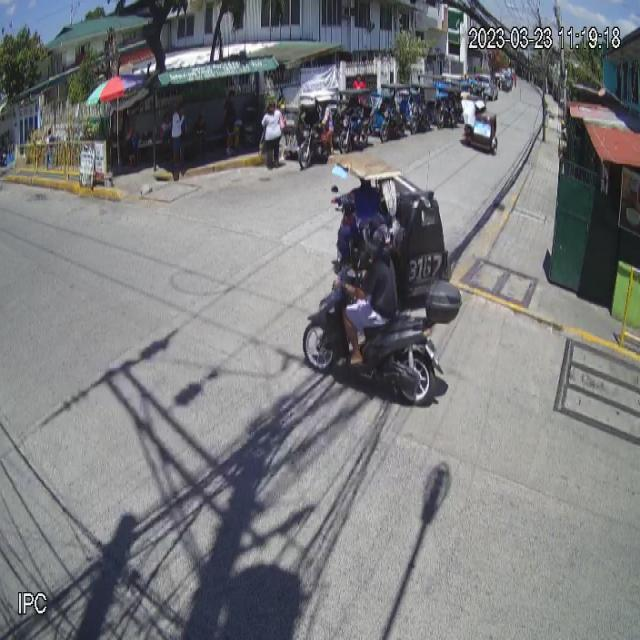Motorcycle: (301, 239, 448, 408)
